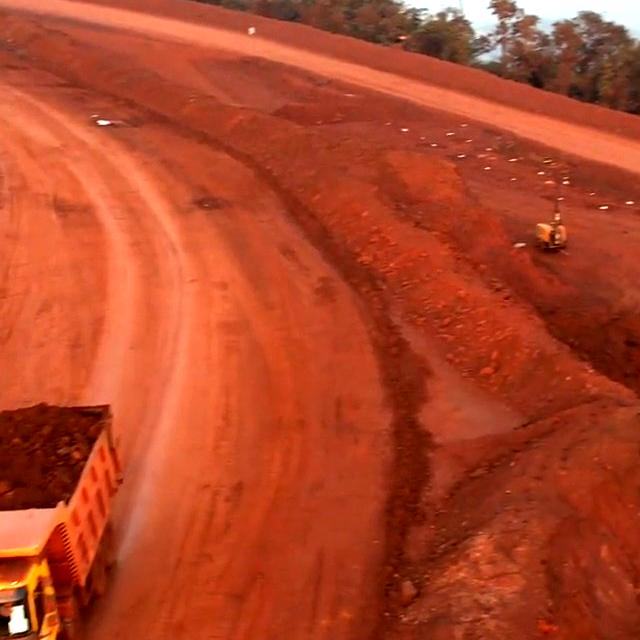Dumper truck: (0, 519, 57, 640)
